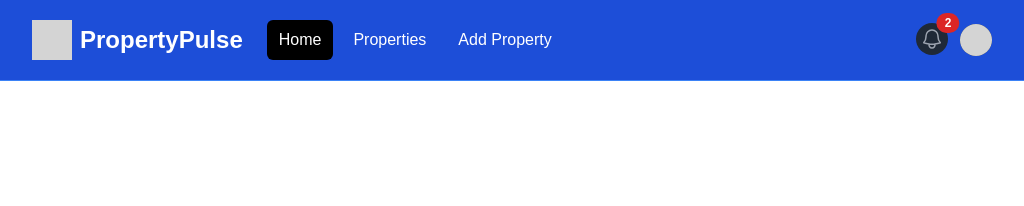
Navbar › renders profile menu when authenticated
Click the 2nd button named "open user menu". click: (976,40)
box: [960, 24, 992, 56]
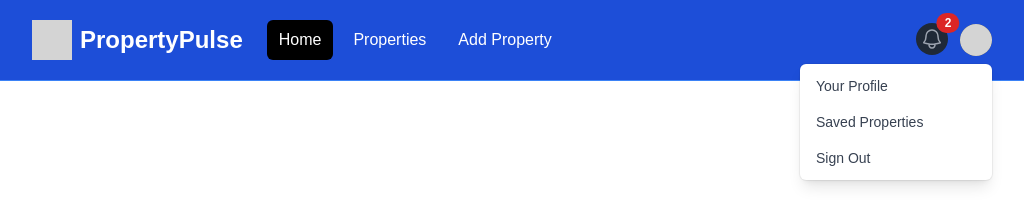
Result: the menu item "Your Profile" is shown at [816, 78, 888, 94]
